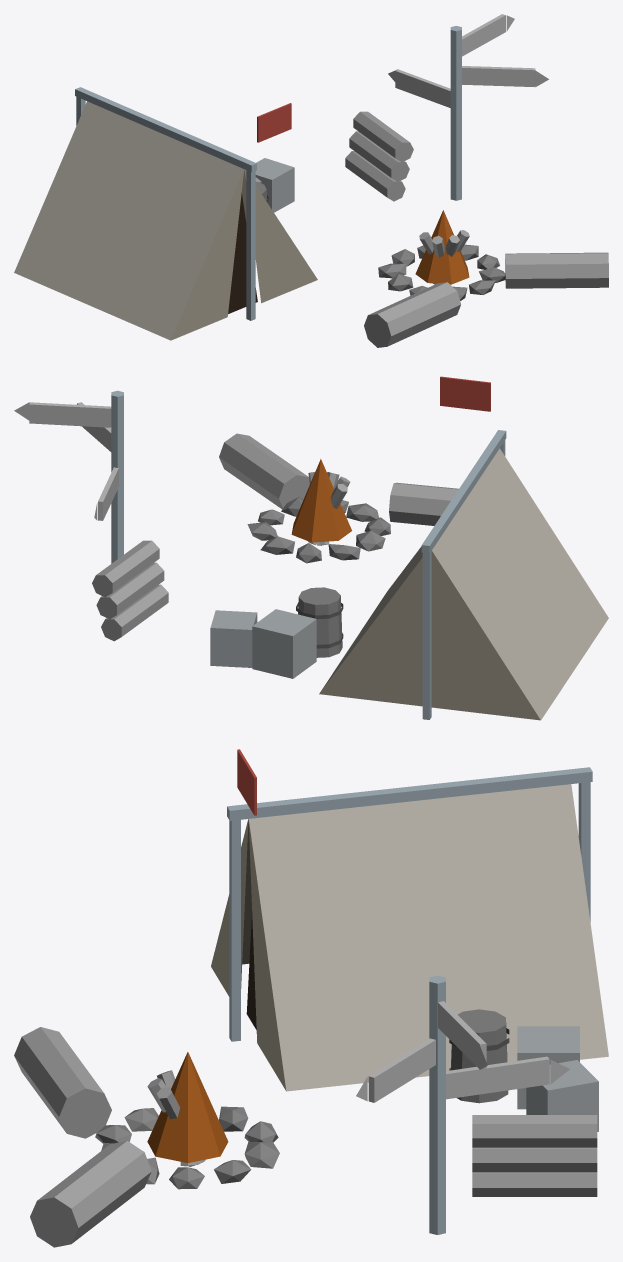
The model's file is camp.glb.
The picture shows the model from 3 angles, top to bottom: view 1: azimuth 30°, elevation 25°; view 2: azimuth 150°, elevation 25°; view 3: azimuth 270°, elevation 25°; orthographic projection. The views are drawn at different scales.
Parts seen in each view (by area): view 1: camp; view 2: camp; view 3: camp.
Part boxes in pixels (x1,y1,x2,y2): camp: (14,14,608,347); camp: (14,376,608,720); camp: (14,749,608,1247).
Size of the model in its own units: 6 by 2.35 by 4.29.
